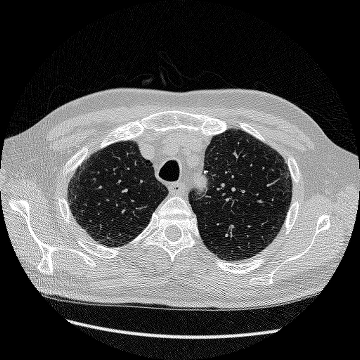nodule: (203, 170, 207, 174)
